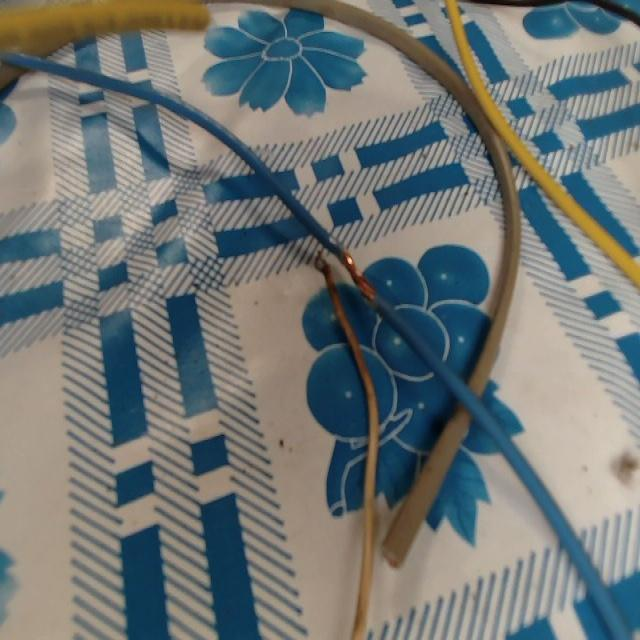-: (337, 241, 378, 303), (314, 244, 336, 296)
